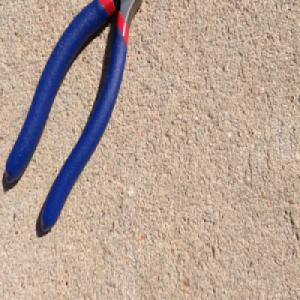Pliers: (4, 0, 146, 234)
